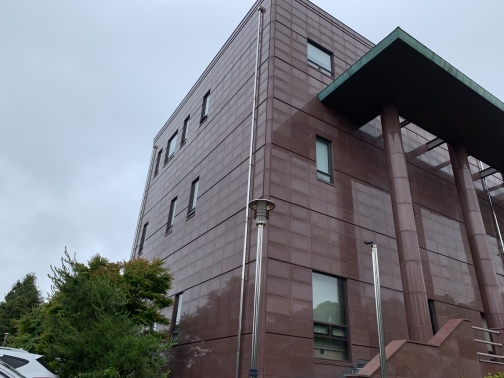Museum: (121, 6, 497, 370)
